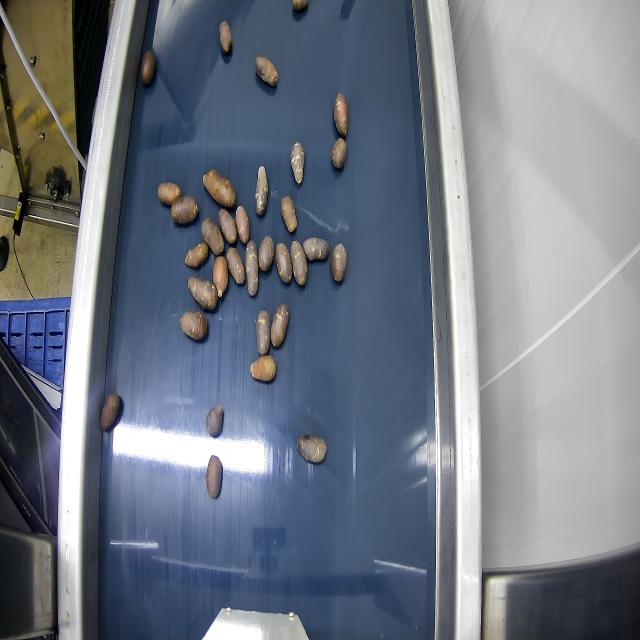Baby Potato: (202, 169, 236, 208), (187, 276, 217, 311), (297, 433, 327, 463), (200, 217, 223, 255), (180, 310, 208, 340), (100, 389, 120, 431), (271, 302, 289, 348), (170, 195, 198, 224), (205, 454, 223, 499), (274, 241, 292, 283), (245, 241, 259, 295), (255, 54, 278, 86), (255, 310, 271, 356), (226, 246, 245, 284), (218, 207, 237, 245), (291, 241, 307, 285), (289, 140, 305, 184), (156, 180, 182, 207), (249, 356, 276, 382), (254, 165, 268, 215), (212, 254, 228, 297), (302, 236, 330, 260), (330, 242, 346, 282), (206, 402, 224, 437), (334, 92, 348, 137), (185, 241, 209, 267), (258, 233, 274, 271), (281, 195, 297, 233), (331, 136, 347, 171), (235, 204, 249, 243), (140, 49, 156, 83), (218, 21, 232, 54), (292, 0, 308, 12)
